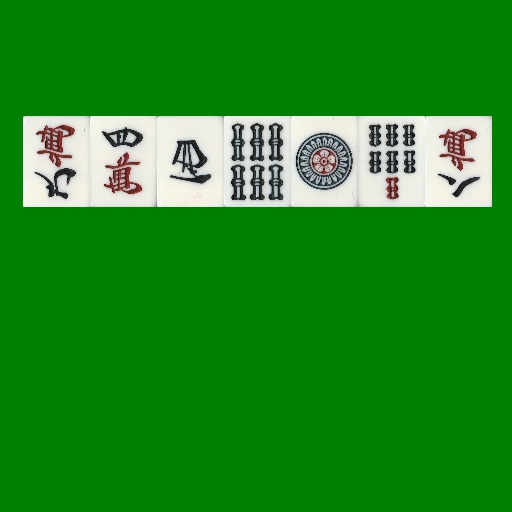1p: (291, 116, 358, 207)
4m: (90, 116, 157, 207)
6s: (224, 116, 291, 207)
7s: (358, 116, 425, 207)
8m: (425, 116, 492, 207)
9m: (23, 116, 90, 207)
west: (157, 116, 224, 207)
